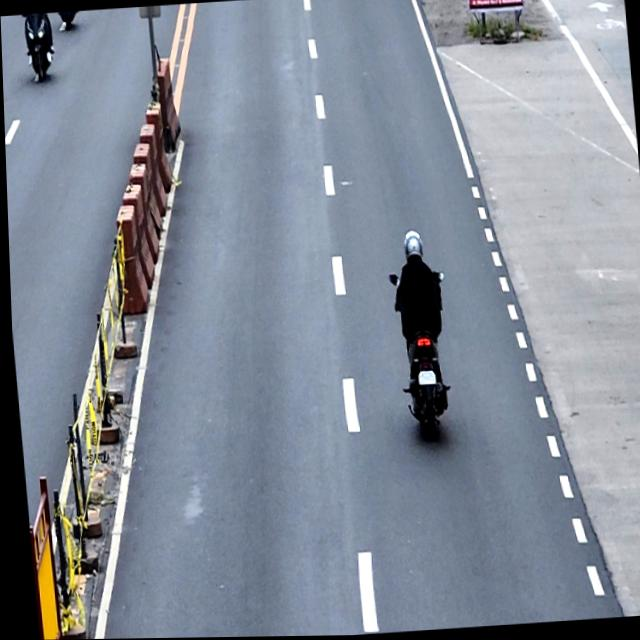License-Plate: (414, 369, 434, 386)
Motorcycle: (386, 270, 455, 444), (22, 14, 56, 83)
